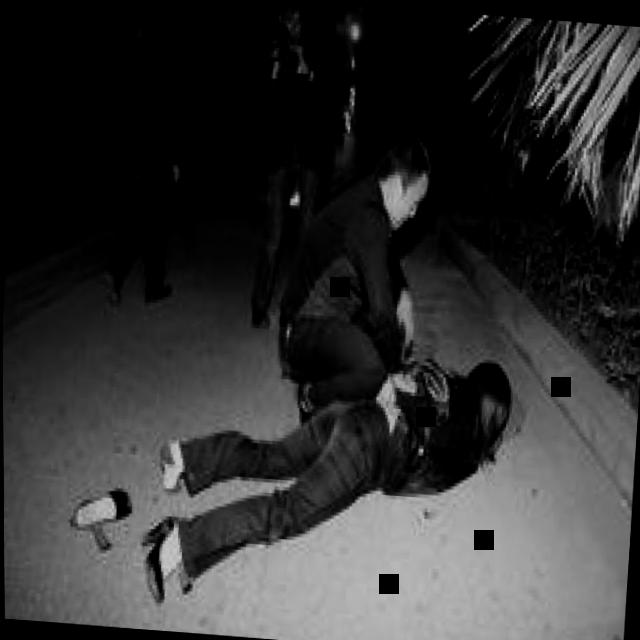Fall-Detected: (136, 299, 530, 618)
